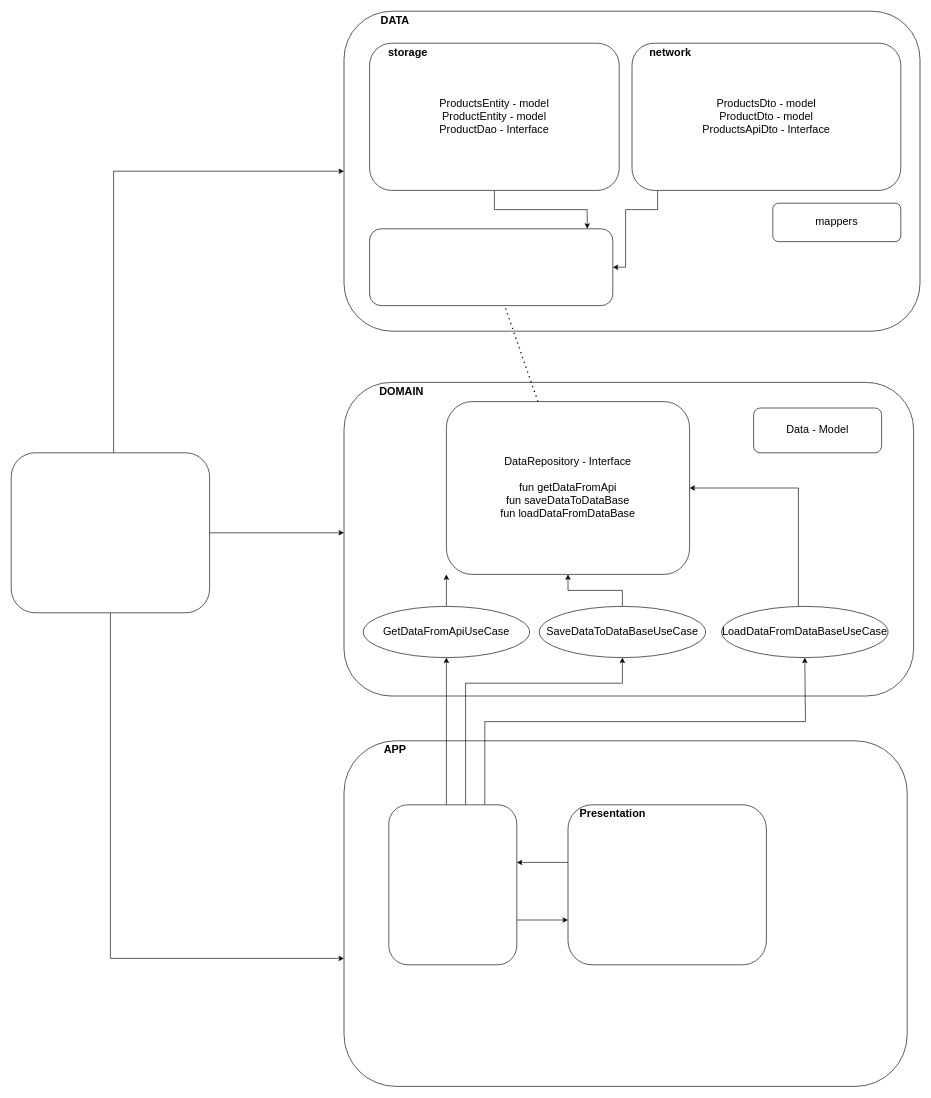
The diagram is 931 pixels wide and 1098 high, and some of its shapes have lost their labels. Here are the shapes that lost their labels. From the top down, the centre of each, then its label:
At point 491,267: "DataRepositoryImpl - Implementation".
At point 110,532: "DI".
At point 452,884: "ViewModel".
